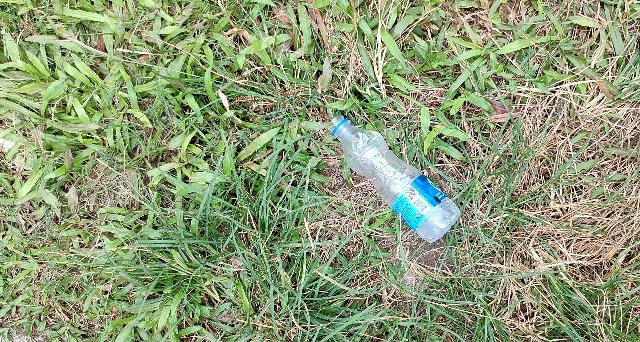bottle: (315, 95, 473, 251)
